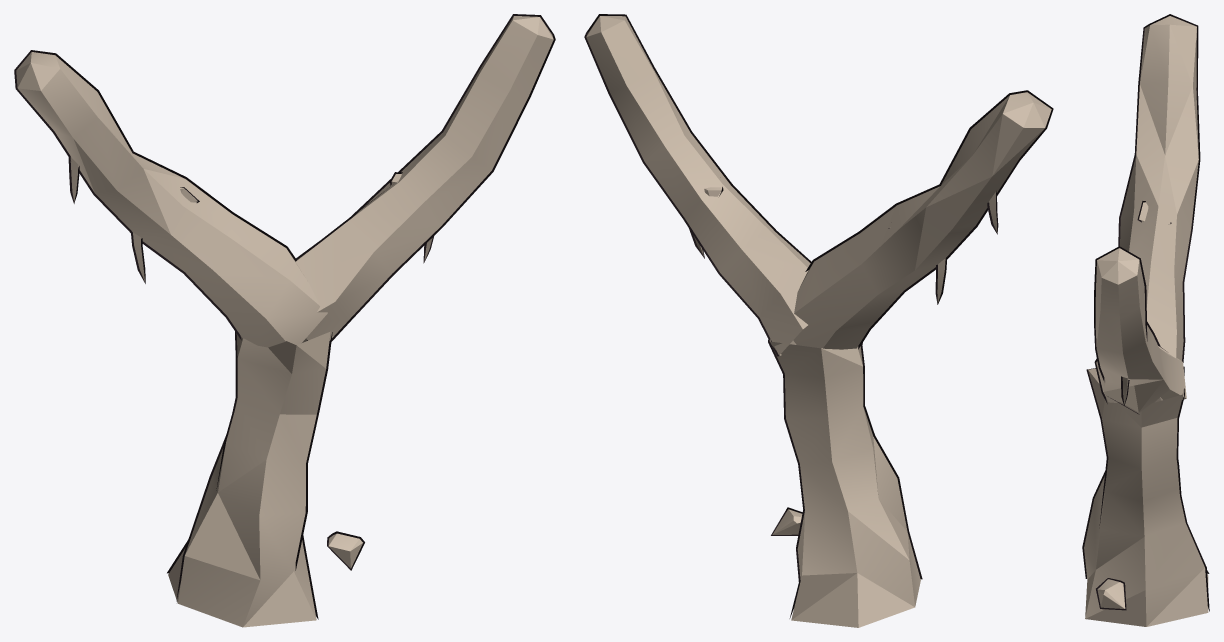
The model's file is SM_Web_Branch_01.fbx.
3 views of the same model, side by side, from view 1: azimuth 30°, elevation 25°; view 2: azimuth 150°, elevation 25°; view 3: azimuth 270°, elevation 25° (orthographic). The views are drawn at different scales.
Parts seen in each view (by area): view 1: SM_Web_Branch_01; view 2: SM_Web_Branch_01; view 3: SM_Web_Branch_01.
Part boxes in pixels (<box>): SM_Web_Branch_01: <box>14,14,555,627</box>; SM_Web_Branch_01: <box>584,14,1053,627</box>; SM_Web_Branch_01: <box>1082,14,1209,626</box>.
Size of the model in its own units: 54.36 by 59.74 by 13.61.
